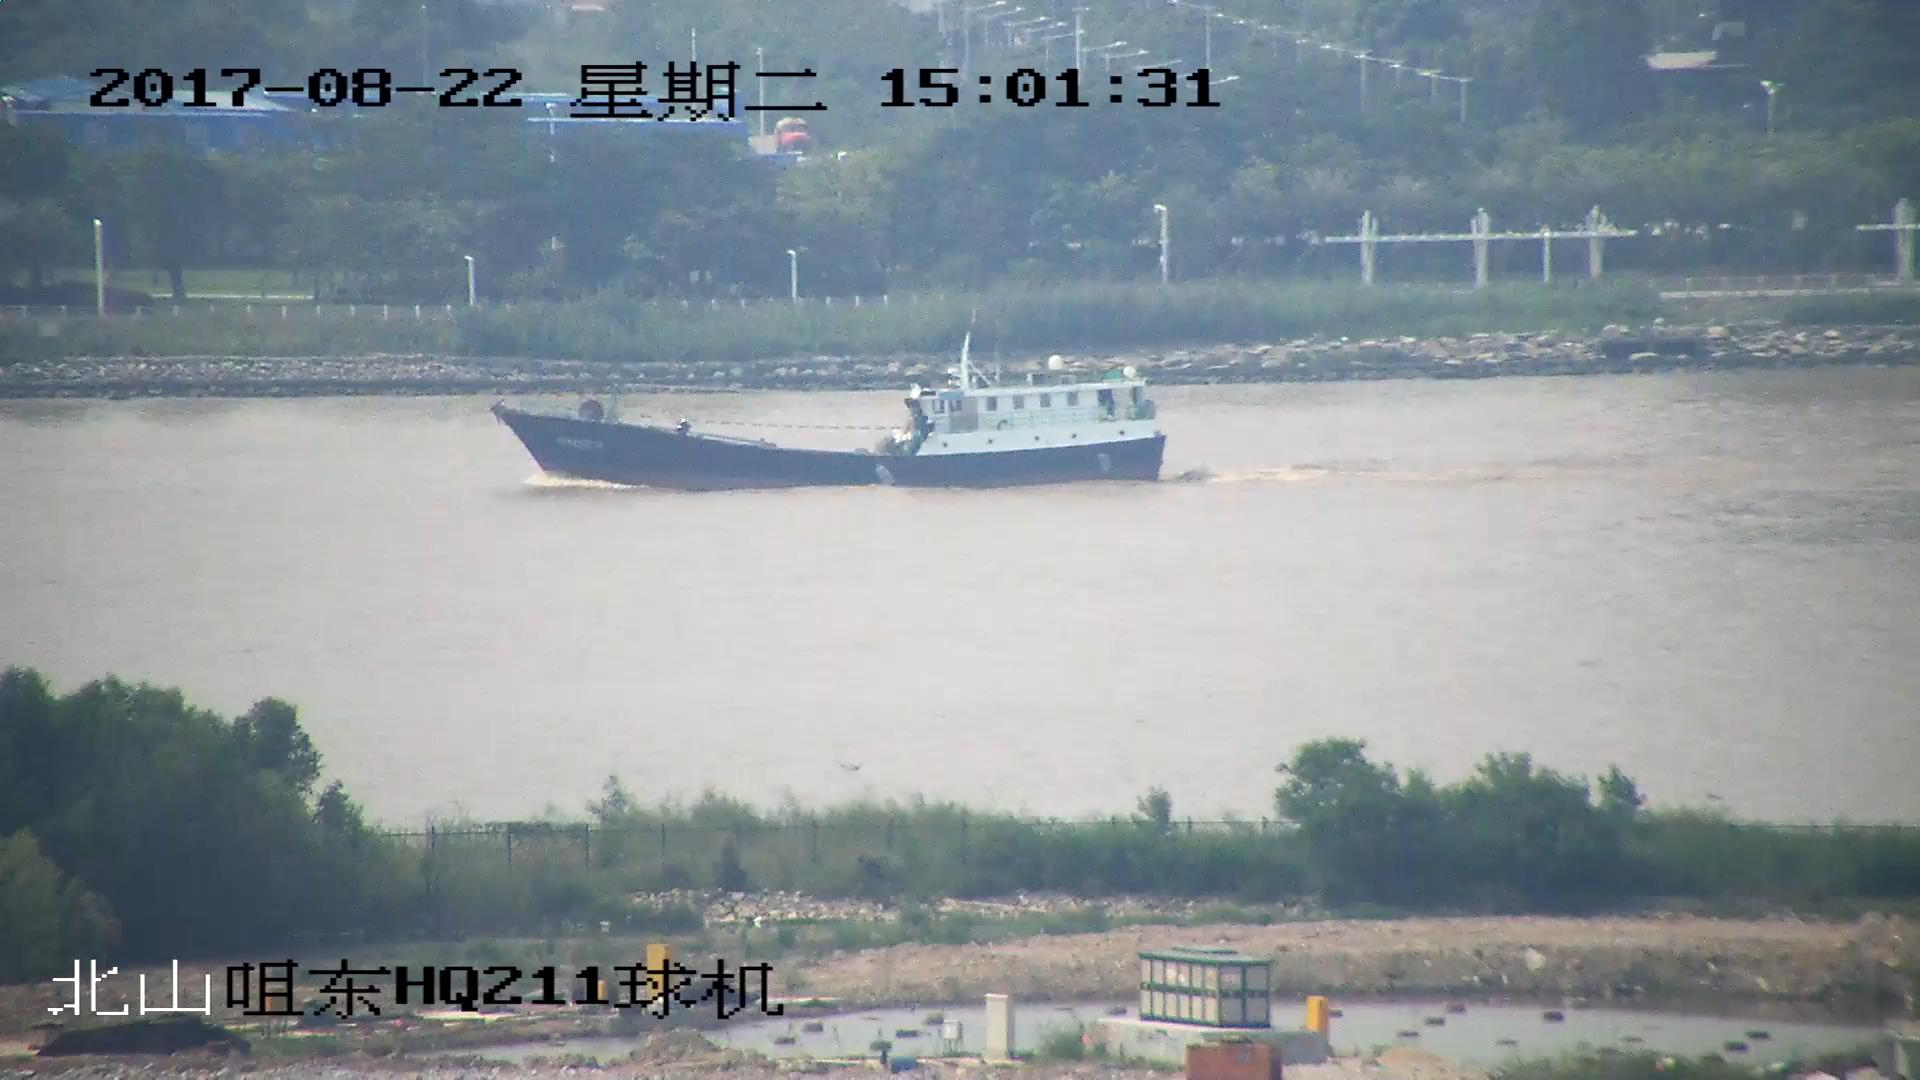fishing boat: (492, 334, 1171, 488)
